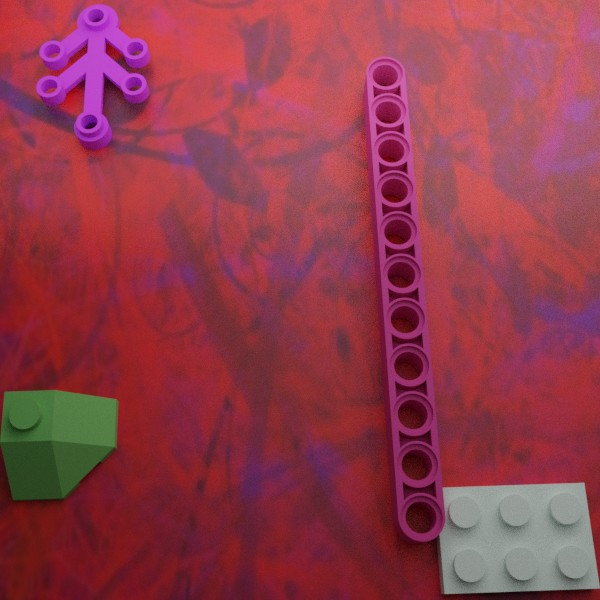lego: (363, 56, 445, 543), (432, 482, 600, 594), (36, 4, 150, 150), (0, 390, 118, 500)
